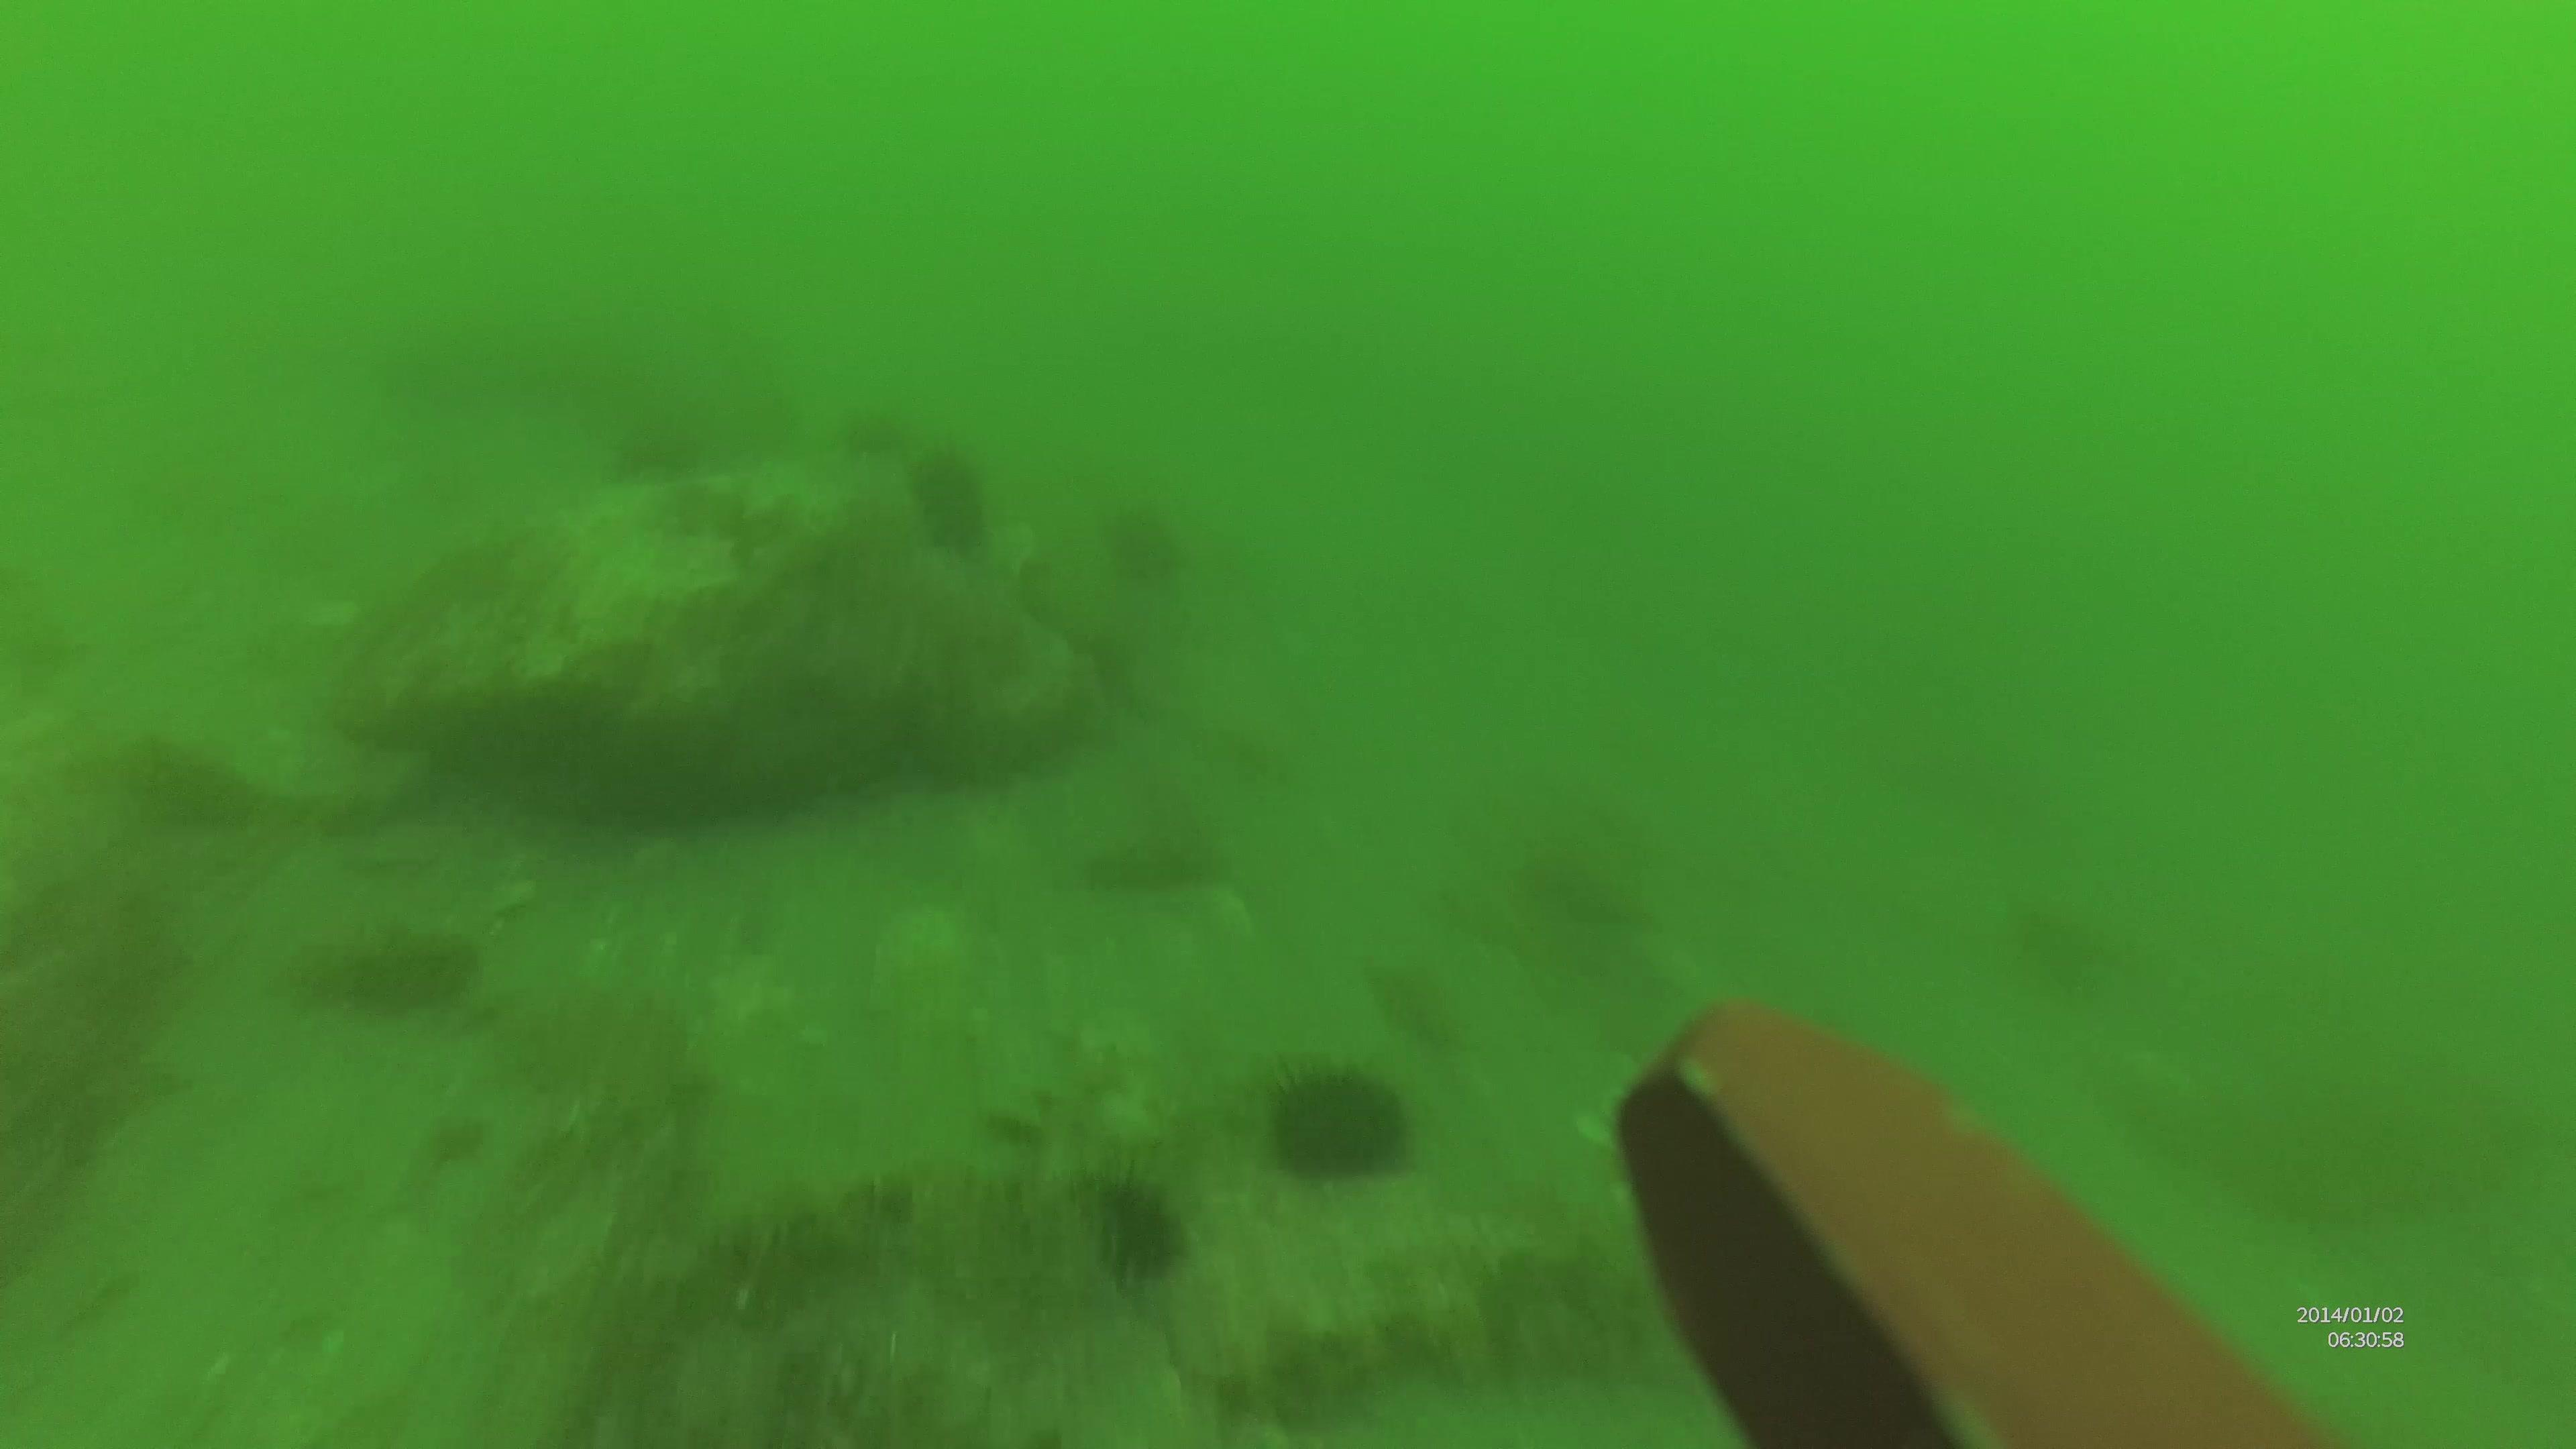echinus: (1251, 1046, 1414, 1182), (895, 444, 996, 563), (1083, 1175, 1191, 1279)
